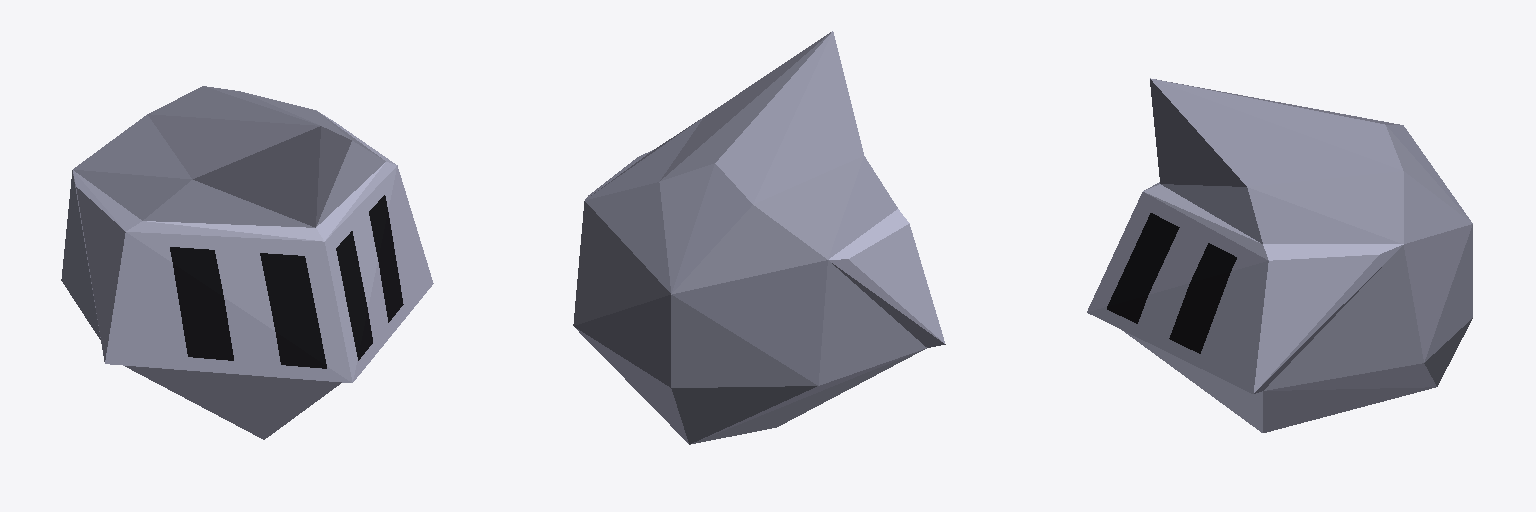
3 renders of one model, left to right at view 1: azimuth 30°, elevation 25°; view 2: azimuth 150°, elevation 25°; view 3: azimuth 270°, elevation 25°, orthographic.
Parts seen in each view (by area): view 1: body_立方体.001; view 2: body_立方体.001; view 3: body_立方体.001.
Part boxes in pixels (x1,y1,x2,y2): body_立方体.001: (61,86,433,439); body_立方体.001: (573,31,945,444); body_立方体.001: (1087,78,1472,432).
Bounding box in the file's own units: 1.64 × 1.69 × 1.67.
Materials: 1 (1 with a texture image).